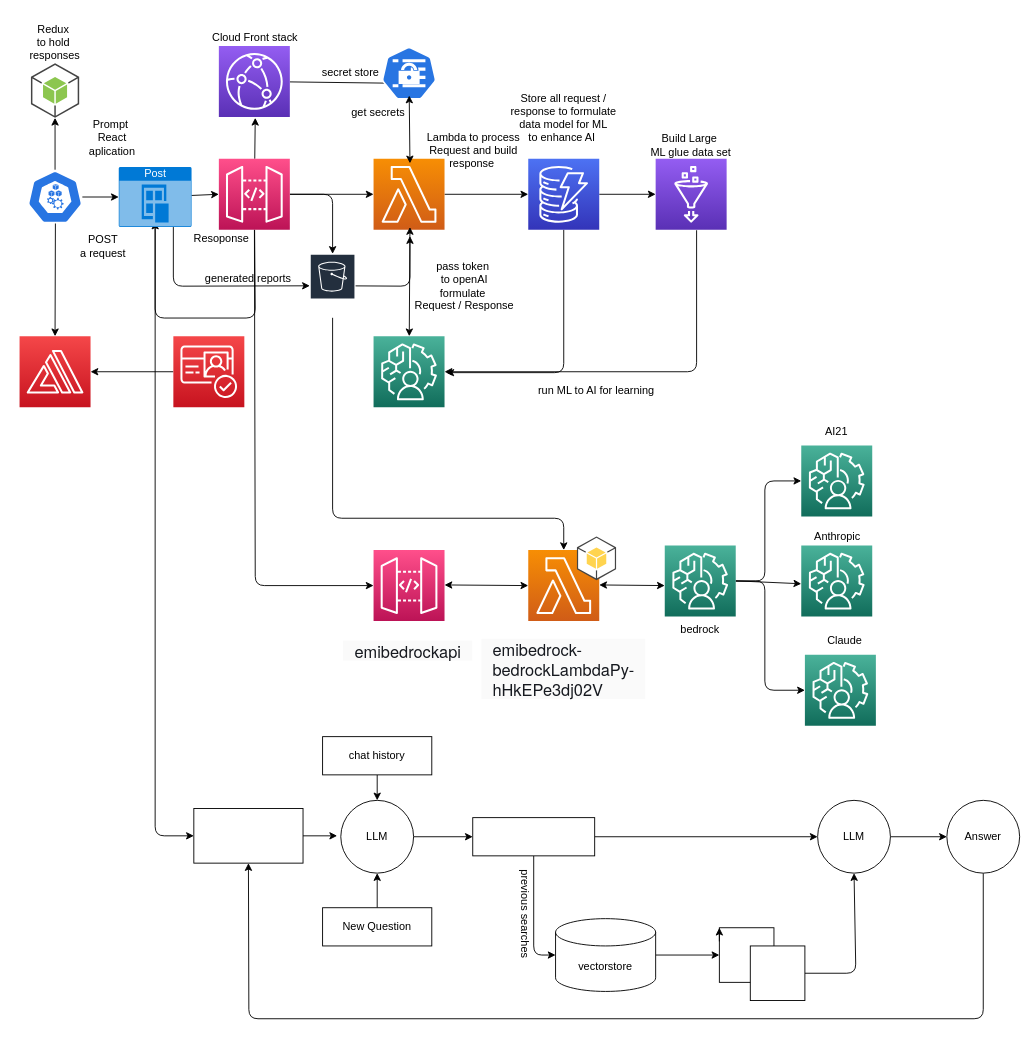
This 1036x1042 diagram has some shape labels left out. Each missing label, with the centre of its shape:
"Amazon S3" goes at (332,285).
"FastAPI" goes at (248,835).
"Stand alone question" goes at (533,836).
"Vectors" goes at (777,973).
